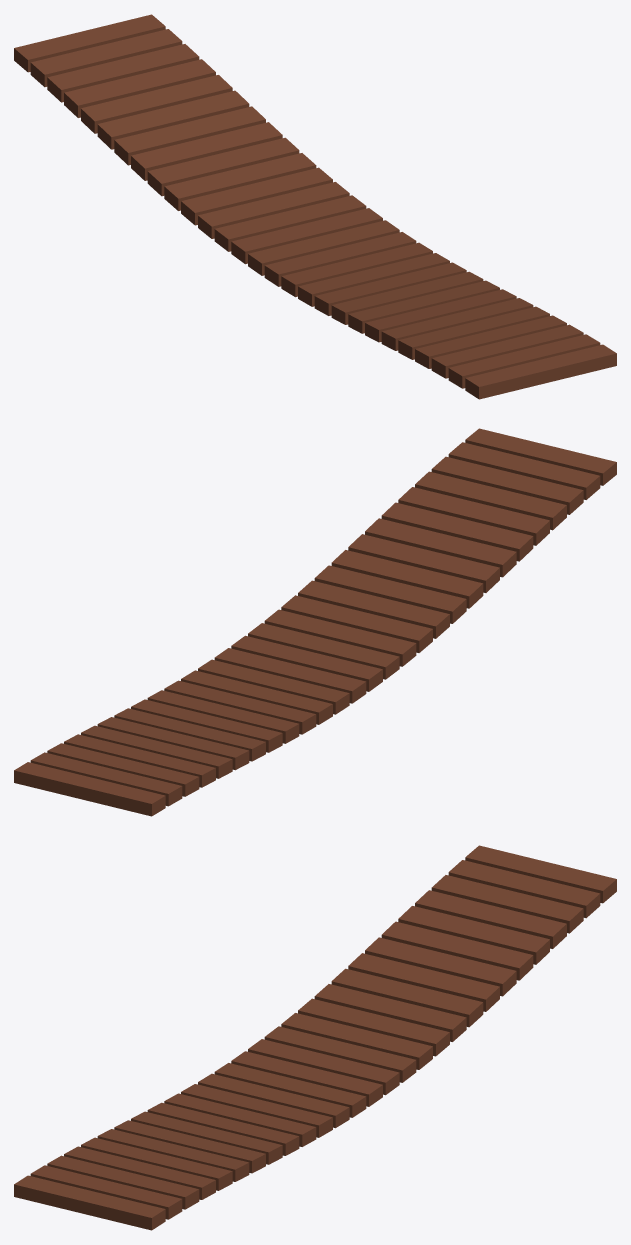
Rendered from abism_bridge.glb.
3 views of the same model, one above another, from view 1: azimuth 30°, elevation 25°; view 2: azimuth 150°, elevation 25°; view 3: azimuth 330°, elevation 25° (orthographic).
Visible parts, largest first — view 1: bridge; view 2: bridge; view 3: bridge.
Boxes of the visible parts, x1,y1,x2,y2 form: bridge: (14, 14, 616, 399); bridge: (14, 428, 616, 816); bridge: (14, 845, 616, 1230).
Bounding box in the file's own units: 5.84 × 1.96 × 34.14.
